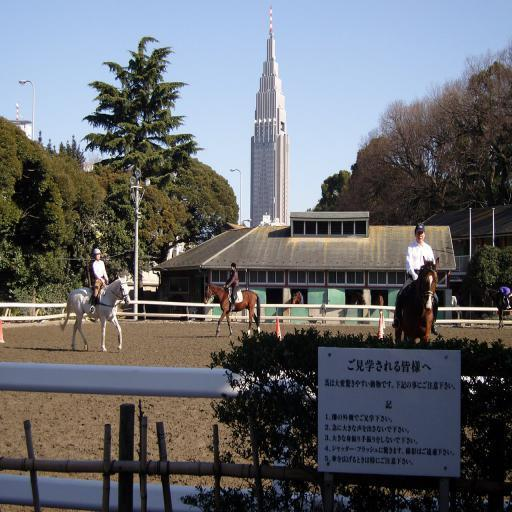horse: (59, 272, 131, 350), (392, 256, 438, 342), (202, 280, 264, 336), (483, 284, 511, 328), (346, 289, 365, 313), (370, 291, 384, 312), (290, 291, 304, 306)
